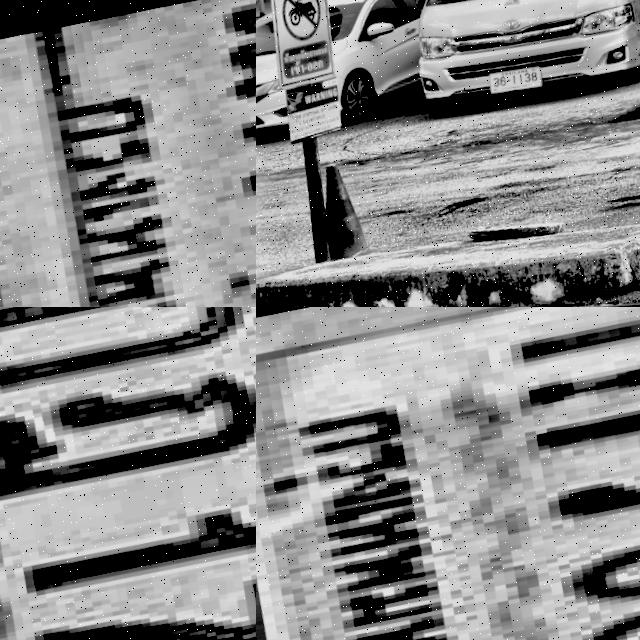license-plate: (256, 307, 640, 640), (0, 307, 256, 640), (0, 0, 256, 307), (313, 0, 356, 35)
